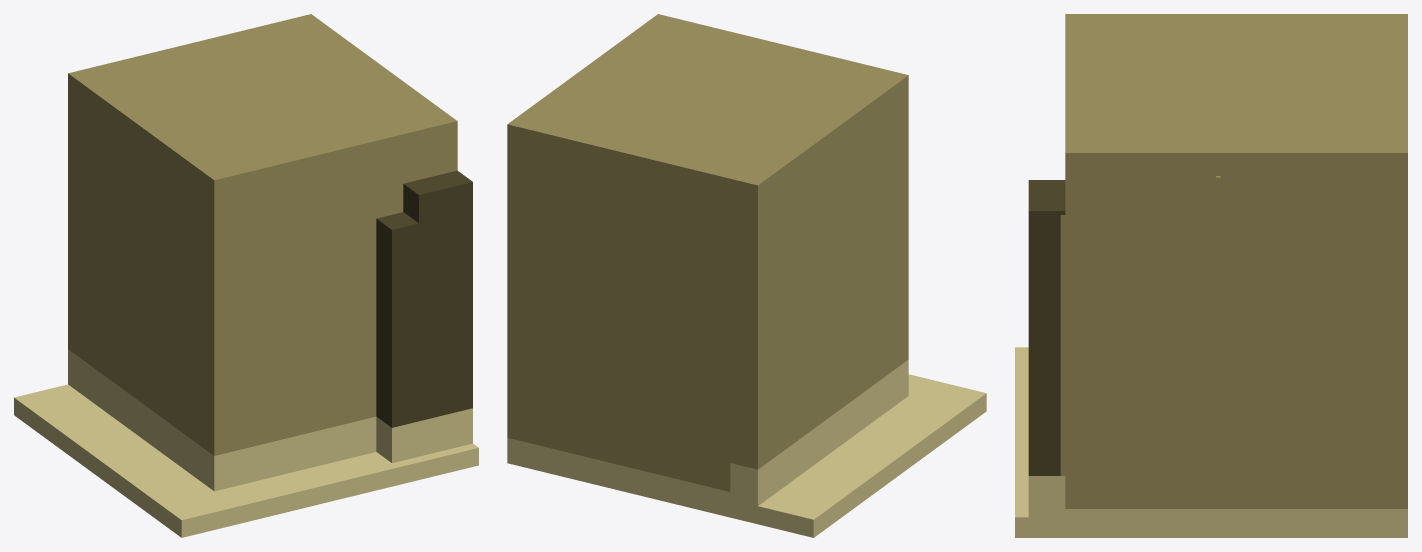
The model's file is sandtower_1.0-11.obj.
The picture shows the model from 3 angles, left to right: view 1: azimuth 30°, elevation 25°; view 2: azimuth 150°, elevation 25°; view 3: azimuth 270°, elevation 25°; orthographic projection. The views are drawn at different scales.
Bounding box in the file's own units: 17.6 × 18.6 × 17.2.
1 material, 1 textured.
